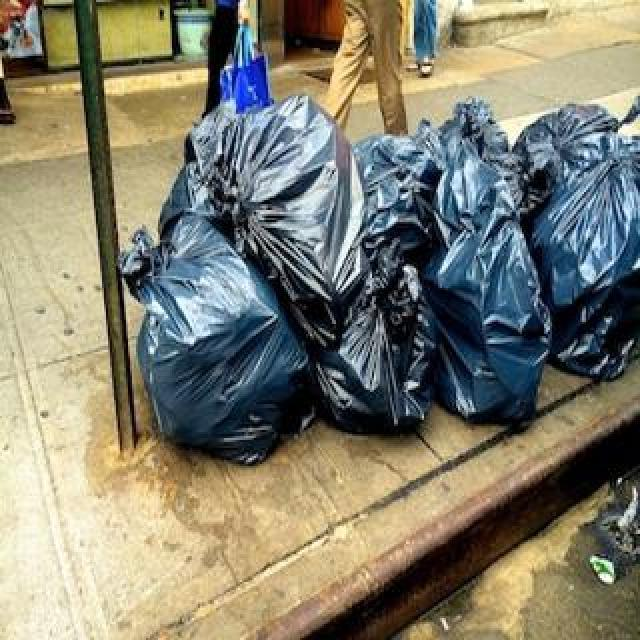high trash: (121, 55, 640, 463)
